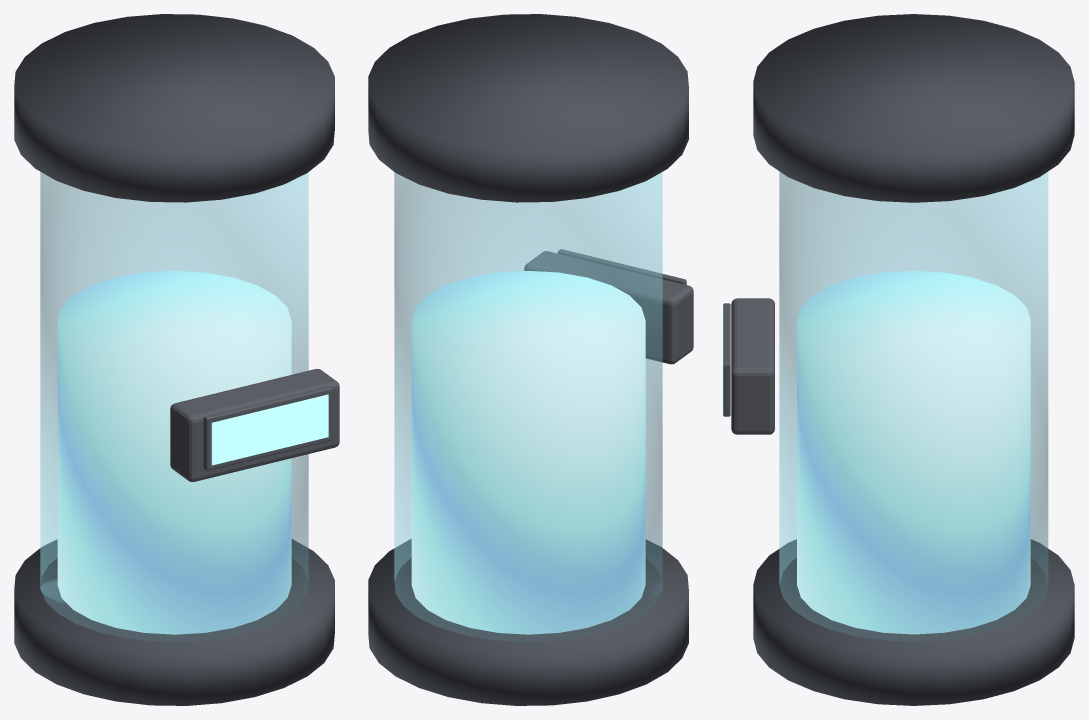
The model's file is medbay_bed_regen_tank.glb.
The picture shows the model from 3 angles, left to right: view 1: azimuth 30°, elevation 25°; view 2: azimuth 150°, elevation 25°; view 3: azimuth 270°, elevation 25°; orthographic projection.
Visible parts, largest first — view 1: GD_medbay_bed_regen_tank__m1, GD_medbay_bed_regen_tank__m0, GD_medbay_bed_regen_tank__m2, GD_medbay_bed_regen_tank__m4, GD_medbay_bed_regen_tank__m5; view 2: GD_medbay_bed_regen_tank__m1, GD_medbay_bed_regen_tank__m2, GD_medbay_bed_regen_tank__m0, GD_medbay_bed_regen_tank__m4; view 3: GD_medbay_bed_regen_tank__m1, GD_medbay_bed_regen_tank__m2, GD_medbay_bed_regen_tank__m0, GD_medbay_bed_regen_tank__m4.
Part boxes in pixels (left/top/right/bottom): GD_medbay_bed_regen_tank__m1: left=40, top=172, right=308, bottom=641; GD_medbay_bed_regen_tank__m0: left=14, top=14, right=334, bottom=705; GD_medbay_bed_regen_tank__m2: left=57, top=271, right=291, bottom=634; GD_medbay_bed_regen_tank__m4: left=170, top=369, right=339, bottom=481; GD_medbay_bed_regen_tank__m5: left=211, top=394, right=328, bottom=465; GD_medbay_bed_regen_tank__m1: left=394, top=172, right=662, bottom=641; GD_medbay_bed_regen_tank__m2: left=411, top=271, right=645, bottom=634; GD_medbay_bed_regen_tank__m0: left=368, top=14, right=688, bottom=705; GD_medbay_bed_regen_tank__m4: left=524, top=249, right=693, bottom=364; GD_medbay_bed_regen_tank__m1: left=779, top=171, right=1048, bottom=641; GD_medbay_bed_regen_tank__m2: left=797, top=271, right=1030, bottom=634; GD_medbay_bed_regen_tank__m0: left=753, top=14, right=1074, bottom=705; GD_medbay_bed_regen_tank__m4: left=723, top=298, right=774, bottom=434.
Size of the model in its own units: 1.1 by 2.1 by 1.21.
